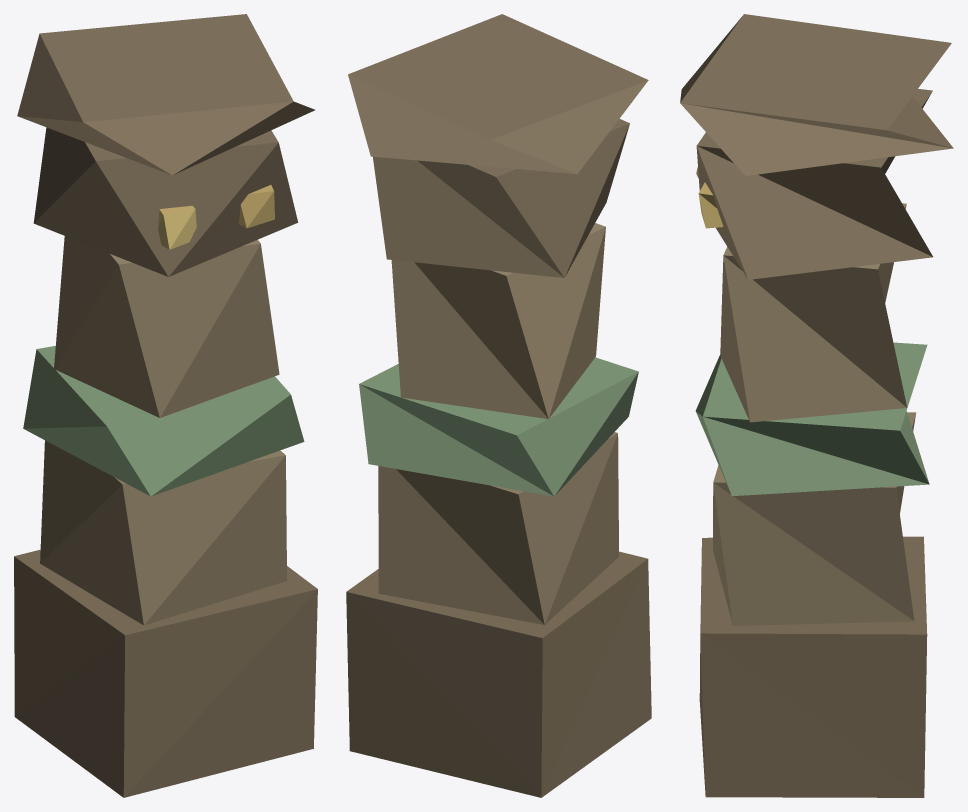
File: totem.glb
3 views of the same model, side by side, from view 1: azimuth 30°, elevation 25°; view 2: azimuth 150°, elevation 25°; view 3: azimuth 270°, elevation 25° (orthographic). The views are drawn at different scales.
Parts seen in each view (by area): view 1: totem; view 2: totem; view 3: totem.
Boxes of the visible parts, x1,y1,x2,y2 form: totem: (14, 14, 317, 797); totem: (346, 14, 651, 797); totem: (680, 14, 953, 797).
Size of the model in its own units: 0.7579 by 2.06 by 0.7542.
